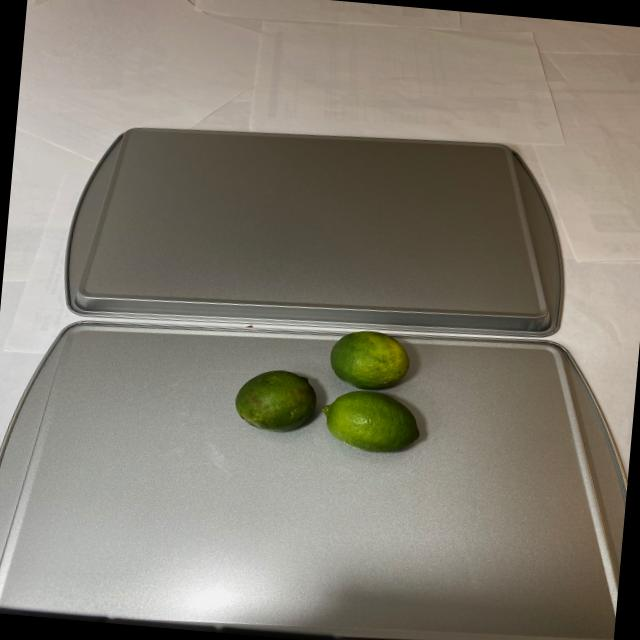lemon: (224, 321, 436, 458)
